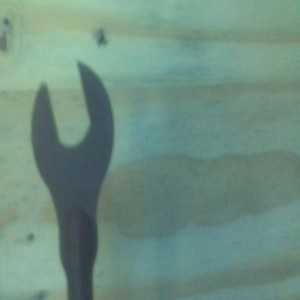spanner: (29, 61, 115, 300)
